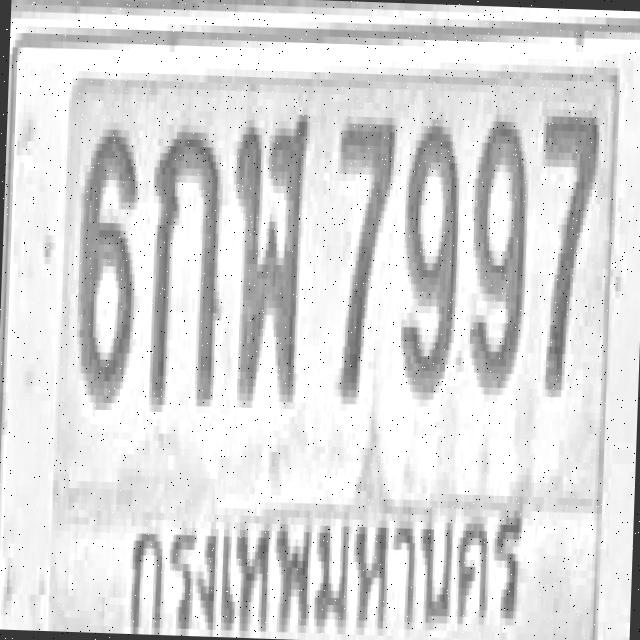10GorGai: (147, 123, 223, 406)
51LorChula: (227, 105, 309, 402)
6: (74, 121, 140, 403)
7: (534, 105, 600, 394), (330, 109, 396, 398)
9: (398, 111, 462, 393), (466, 113, 530, 388)
Bangkok: (116, 481, 533, 640)
